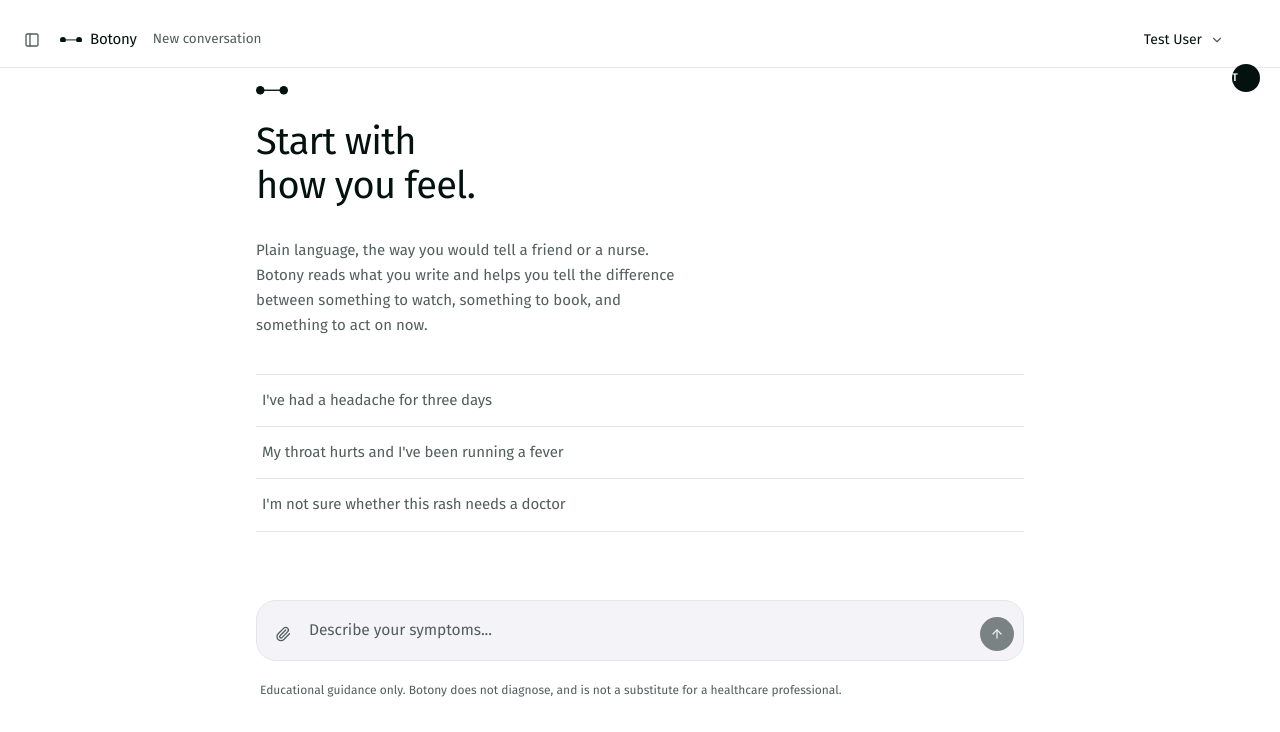
Test: Chat messaging › renders both the user message and the assistant reply after sending
The width and height of the screenshot is (1280, 732).
(page scrolled)
In the text box with placeholder "Describe your symptoms...": (640, 630) [307,609,973,652], type "I have a sore throat"
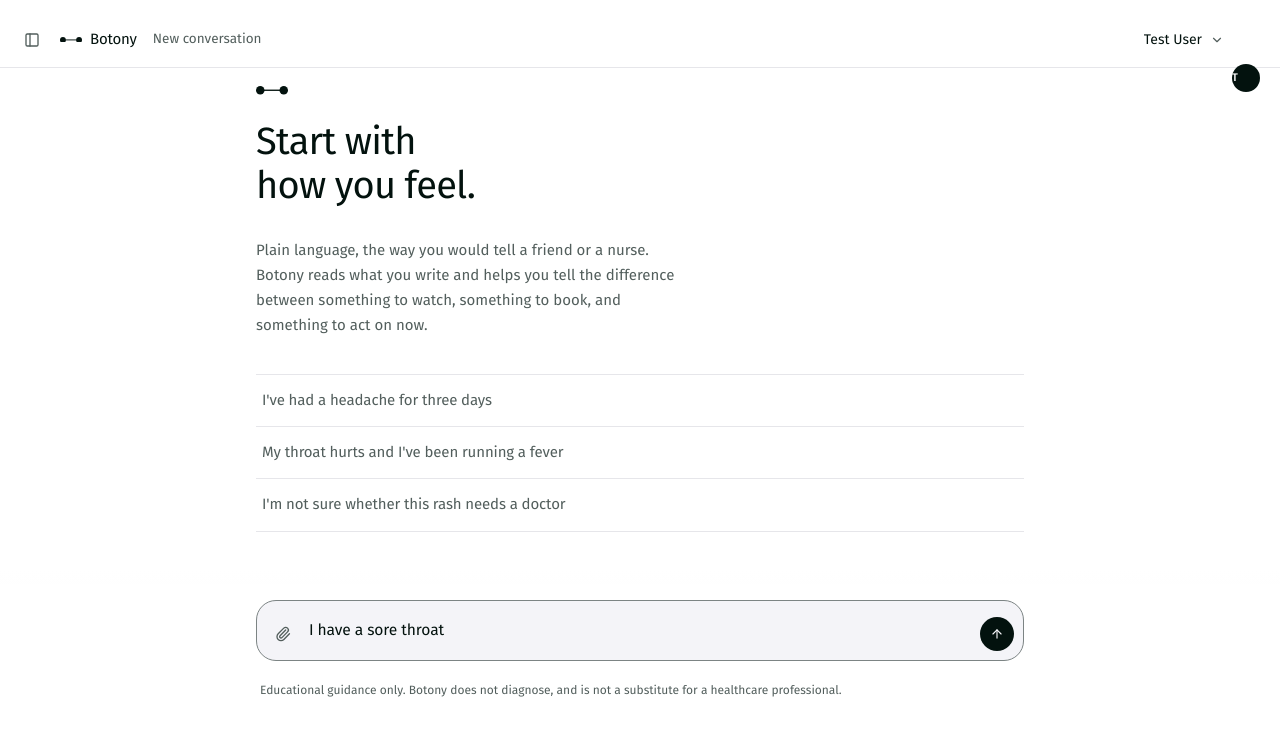
Click the button named "send": (997, 634) [979,616,1015,652]
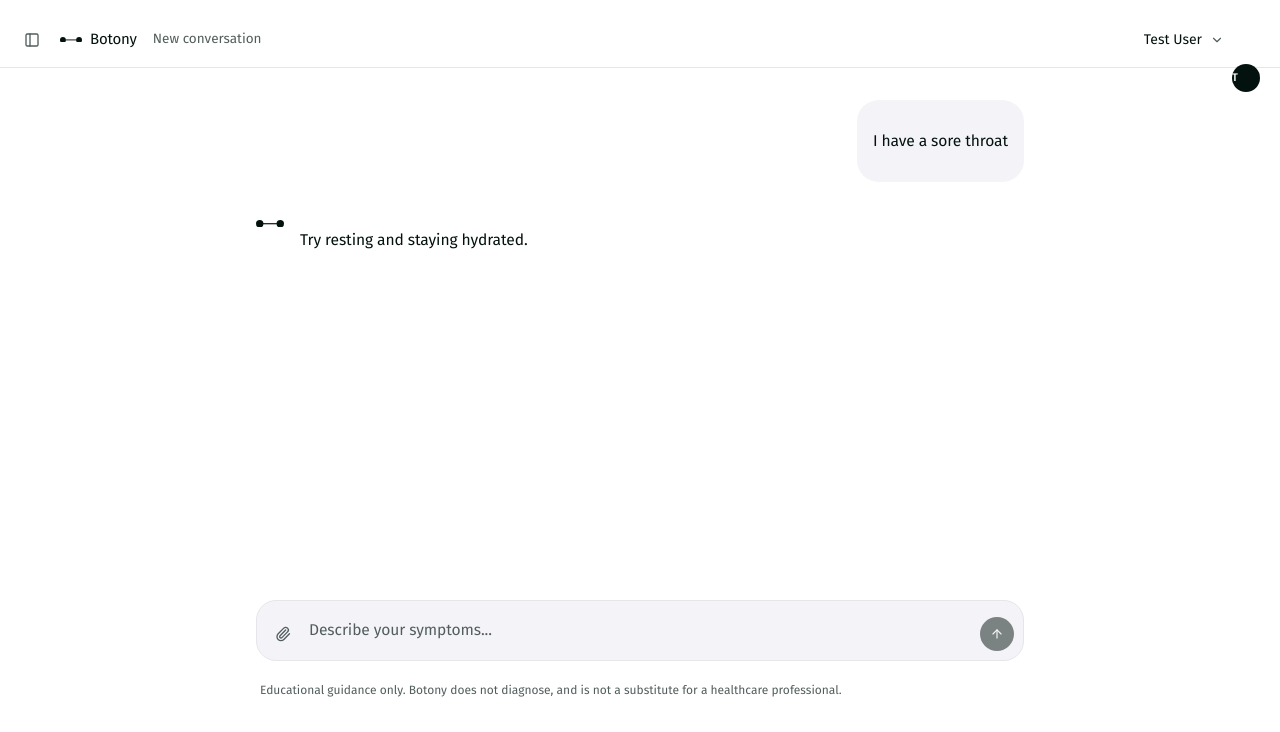
expect the text "I have a sore throat" is shown: met, box [873,128,1008,154]
expect the text "Try resting and staying hydrated." is shown: met, box [300,227,528,253]
